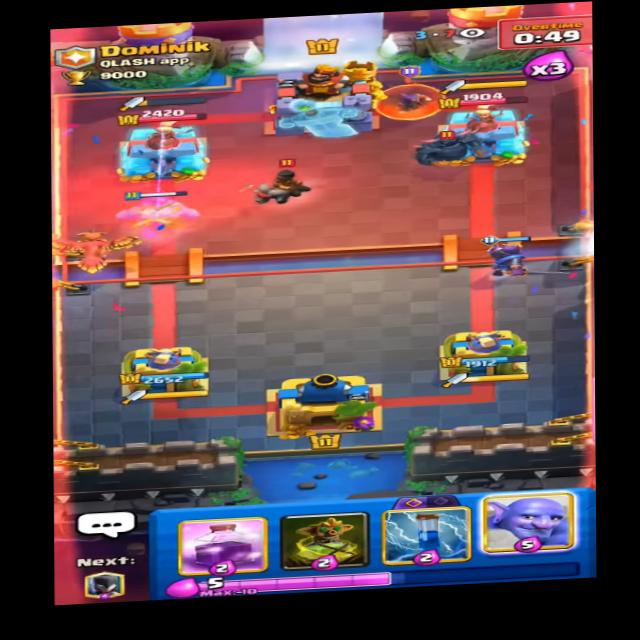Evowizard: (370, 65, 458, 124)
Pekka: (414, 124, 493, 170)
Ramrider: (248, 154, 311, 212)
